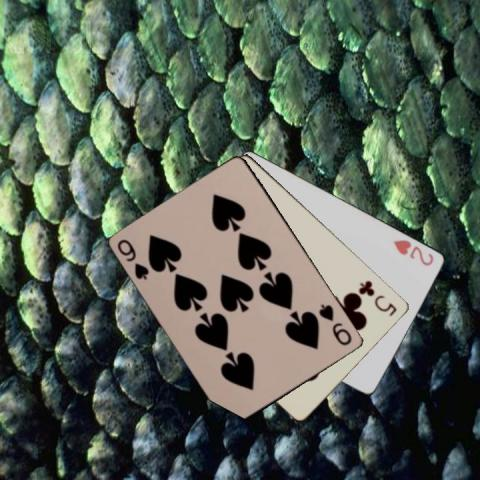2h: (390, 236, 435, 267)
5c: (356, 277, 399, 318)
9s: (316, 301, 354, 347), (114, 236, 151, 281)
